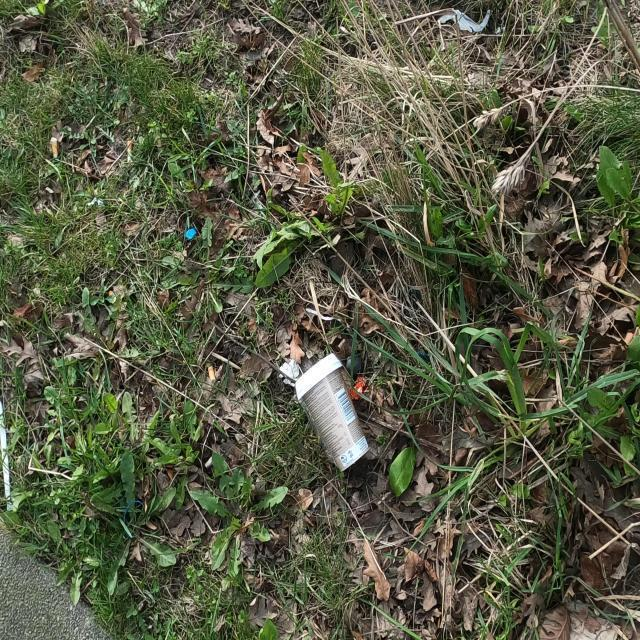Cup: (294, 351, 371, 477)
Paper: (278, 358, 300, 388)
Plastic: (348, 376, 367, 400)
